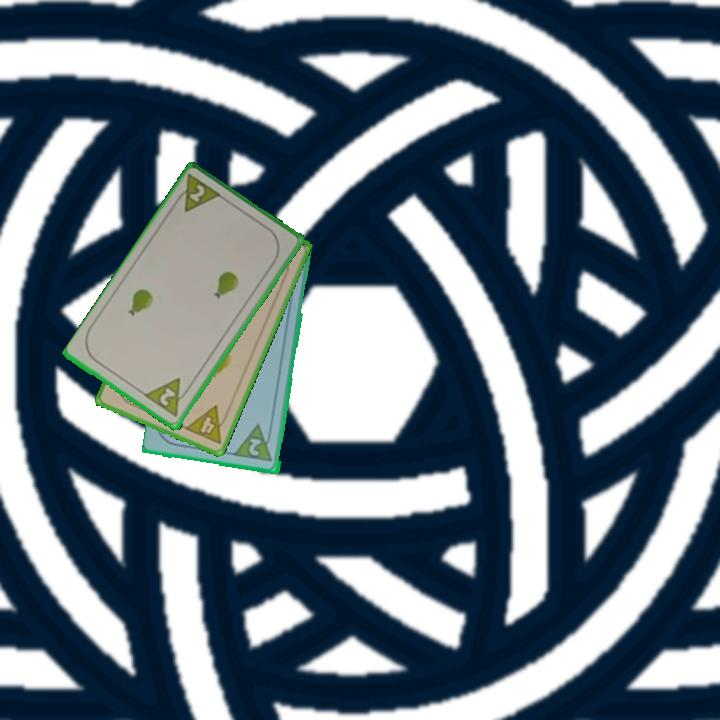2p: (169, 171, 225, 216), (142, 374, 194, 421), (232, 421, 276, 465)
4p: (181, 402, 233, 447)
